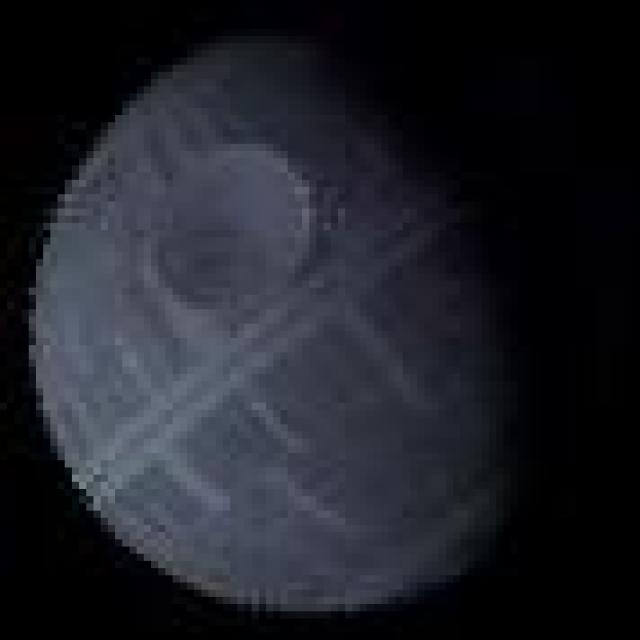Death Star: (14, 21, 518, 618)
